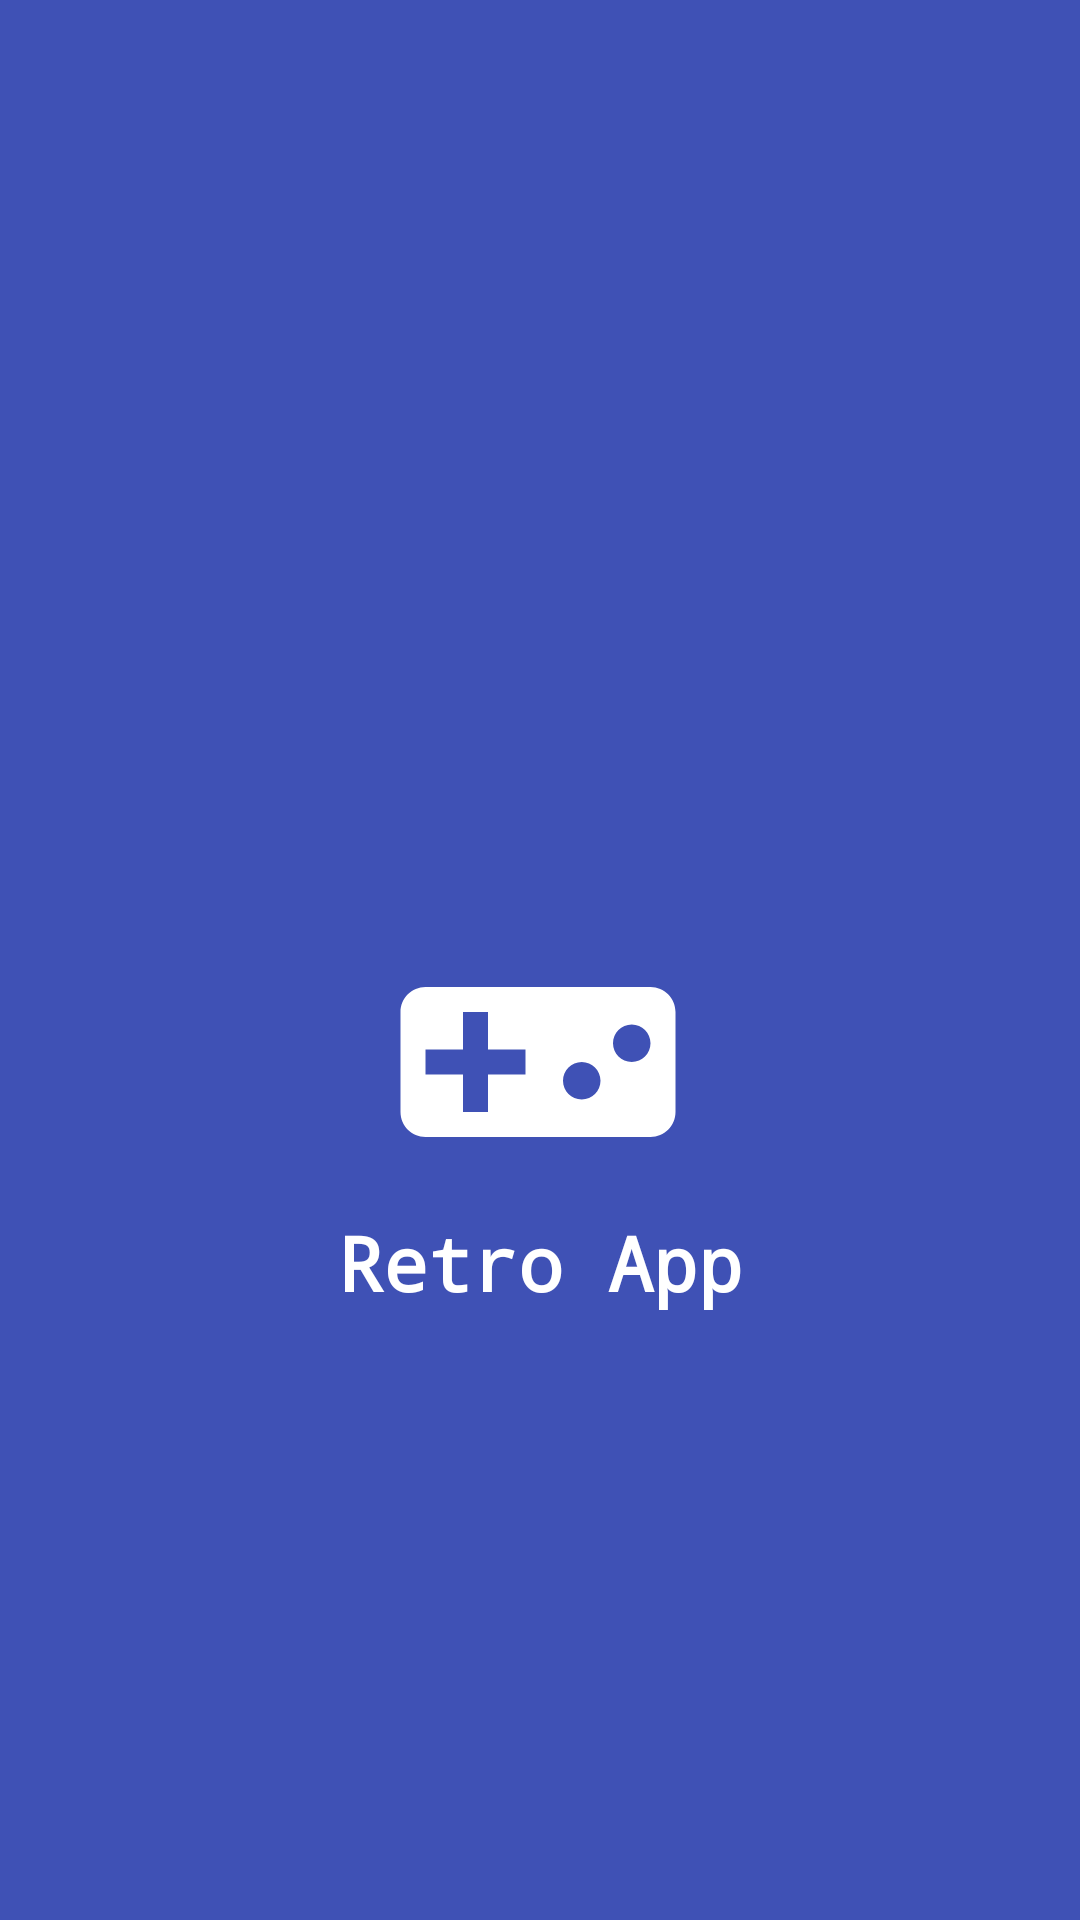

Point at icon controls on the screen. Image size 1080 x 1920, points as point (x, y).
console: point (538, 1062)
